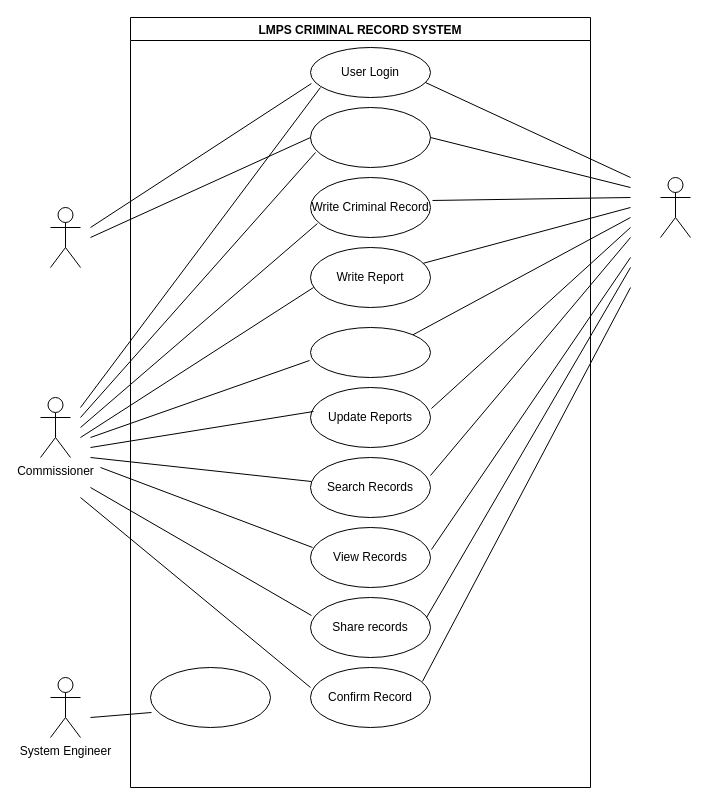
This 728x805 diagram has some shape labels left out. Each missing label, with the box of its shape:
Admin: (50, 206, 80, 268)
Delete Records: (310, 326, 430, 378)
Maintain System: (150, 666, 270, 728)
Police Officer: (660, 176, 690, 238)
User Registration: (310, 106, 430, 168)
